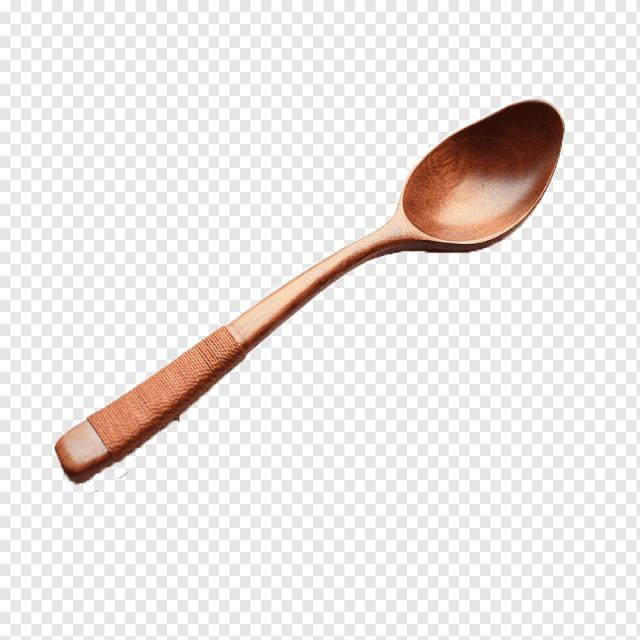Sendok: (28, 83, 587, 525)
